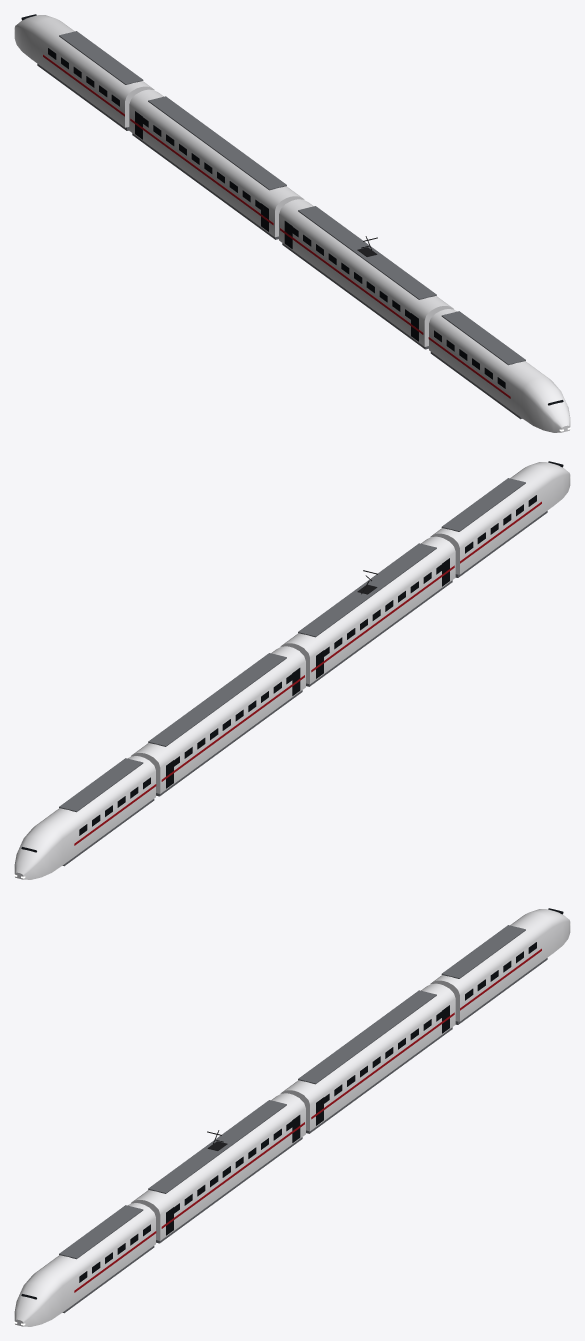
The model's file is ice.glb.
The picture shows the model from 3 angles, top to bottom: view 1: azimuth 30°, elevation 25°; view 2: azimuth 150°, elevation 25°; view 3: azimuth 330°, elevation 25°; orthographic projection.
Parts seen in each view (by area): view 1: kopf_vorn, wagen_1, wagen_2, kopf_hinten, Cube.084, Cube.050, Cube.020, Cube.105; view 2: kopf_hinten, wagen_2, wagen_1, kopf_vorn, Cube.084, Cube.050, Cube.020, Cube.105; view 3: kopf_vorn, wagen_1, wagen_2, kopf_hinten, Cube.084, Cube.050, Cube.020, Cube.105.
Part boxes in pixels (x1,y1,x2,y2): kopf_vorn: [429, 309, 570, 432]; wagen_1: [279, 199, 453, 346]; wagen_2: [129, 89, 304, 237]; kopf_hinten: [14, 15, 154, 127]; Cube.084: [148, 96, 286, 190]; Cube.050: [298, 206, 436, 299]; Cube.020: [441, 311, 525, 365]; Cube.105: [59, 31, 143, 84]; kopf_hinten: [14, 756, 155, 879]; wagen_2: [131, 646, 305, 793]; wagen_1: [280, 536, 455, 684]; kopf_vorn: [430, 462, 570, 574]; Cube.084: [148, 653, 286, 746]; Cube.050: [298, 543, 436, 637]; Cube.020: [441, 478, 525, 531]; Cube.105: [59, 758, 143, 812]; kopf_vorn: [14, 1203, 155, 1326]; wagen_1: [131, 1093, 305, 1240]; wagen_2: [280, 983, 455, 1131]; kopf_hinten: [430, 909, 570, 1021]; Cube.084: [298, 990, 436, 1084]; Cube.050: [148, 1100, 286, 1193]; Cube.020: [59, 1205, 143, 1259]; Cube.105: [441, 925, 525, 978].
Size of the model in its own units: 2.99 by 5.36 by 90.2.
